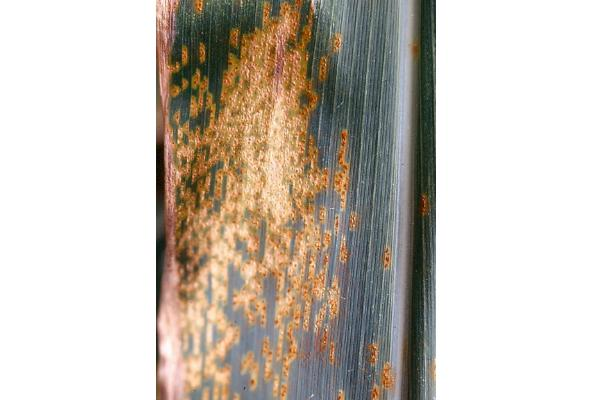Corn rust leaf: (157, 2, 434, 399)
